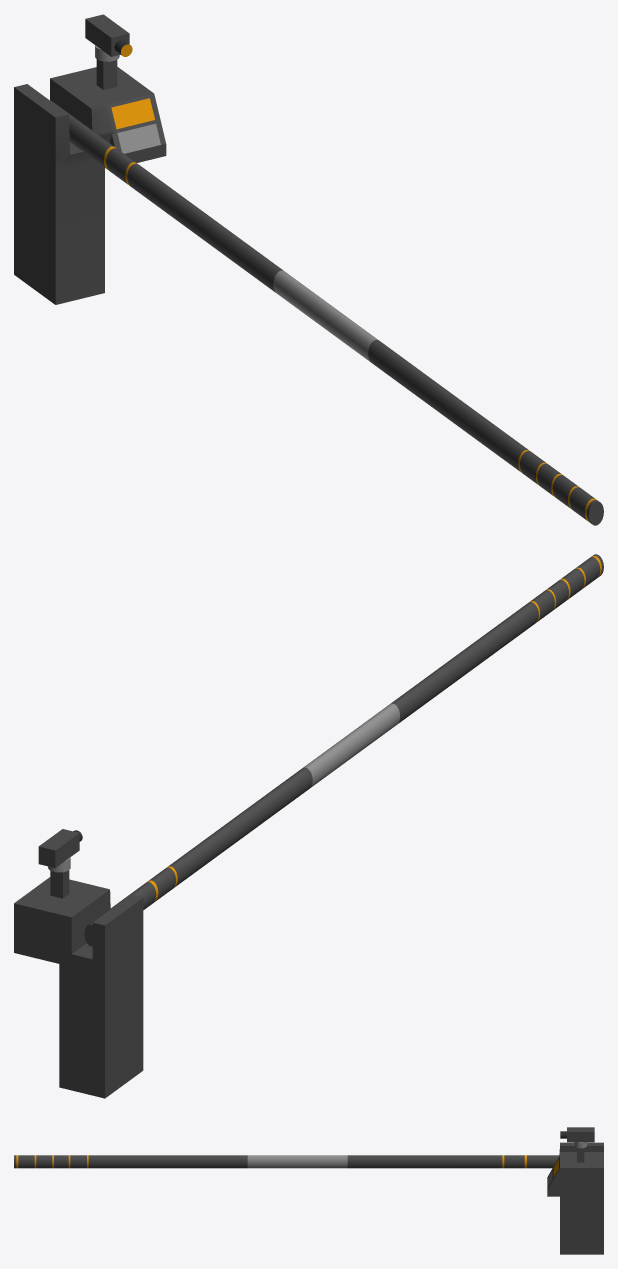
The model's file is RaisedPoleEntrance.fbx.
3 views of the same model, one above another, from view 1: azimuth 30°, elevation 25°; view 2: azimuth 150°, elevation 25°; view 3: azimuth 270°, elevation 25° (orthographic). The views are drawn at different scales.
Visible parts, largest first — view 1: pCube6; view 2: pCube6; view 3: pCube6.
Boxes of the visible parts, x1,y1,x2,y2 form: pCube6: [14, 14, 603, 525]; pCube6: [14, 554, 603, 1098]; pCube6: [14, 1127, 603, 1254].
Bounding box in the file's own units: 2.24 × 5.36 × 21.95.
